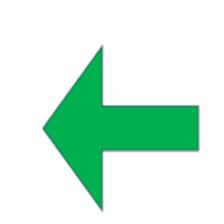left: (39, 40, 205, 214)
